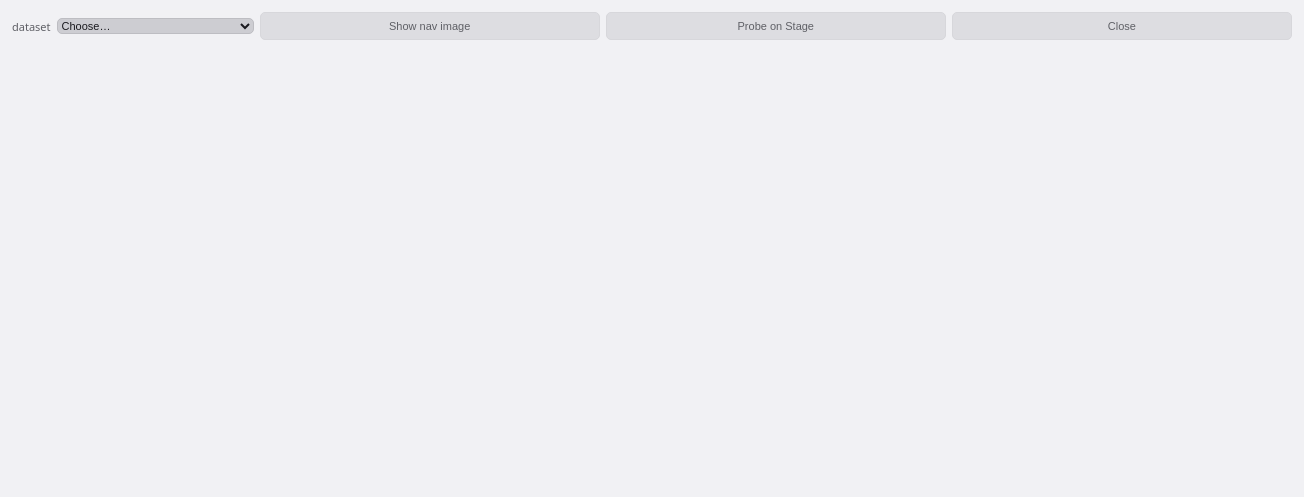
Test case: FourDWorkshop › clicking the nav minimap probes a scan position and fetches its pattern
Select "synthetic.mib (4×5 scan, 64×64 det)" in the dropdown named "4D-STEM dataset": (155, 26) [56,18,254,34]
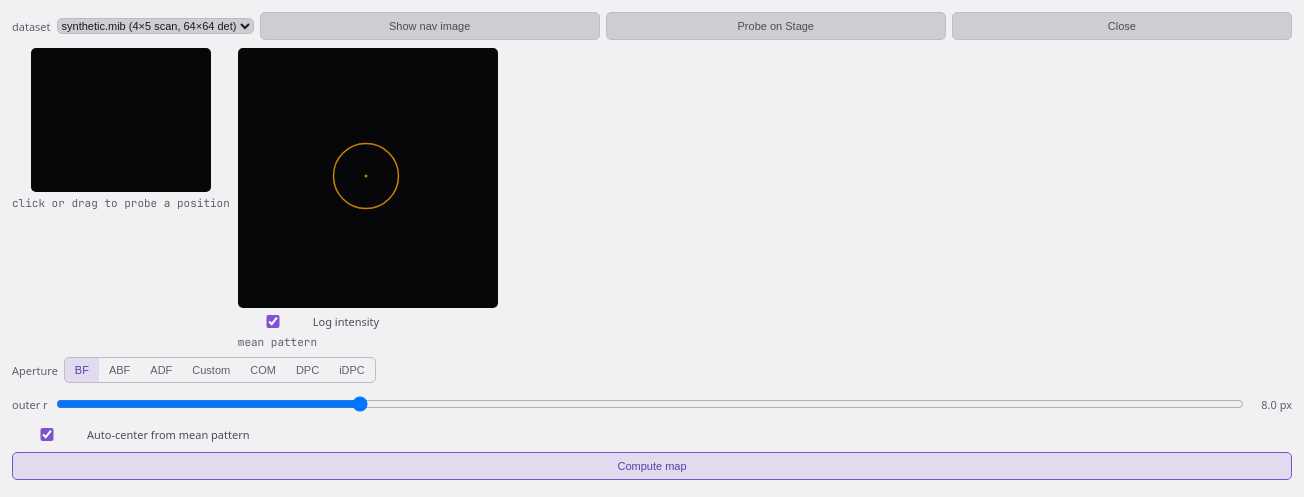
Now the text "mean pattern" is shown, box [238,335,317,349]
Press the mouse on the picture named "Navigation image — click or drag to probe a scan position": (121, 120) [31,48,211,192]
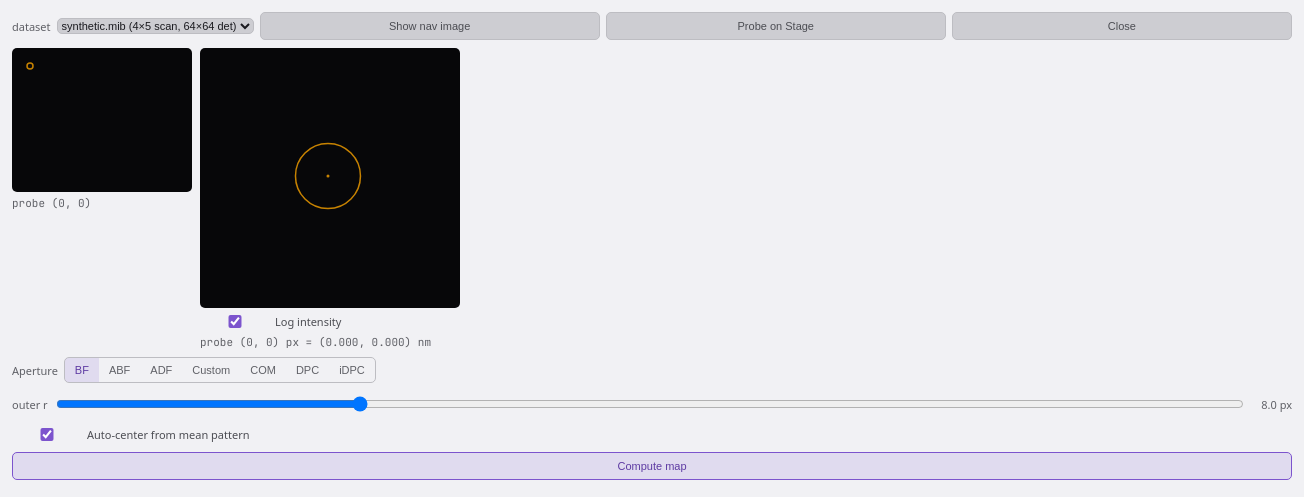
Now the text "probe (0, 0)" is shown, box [12,196,91,210]
